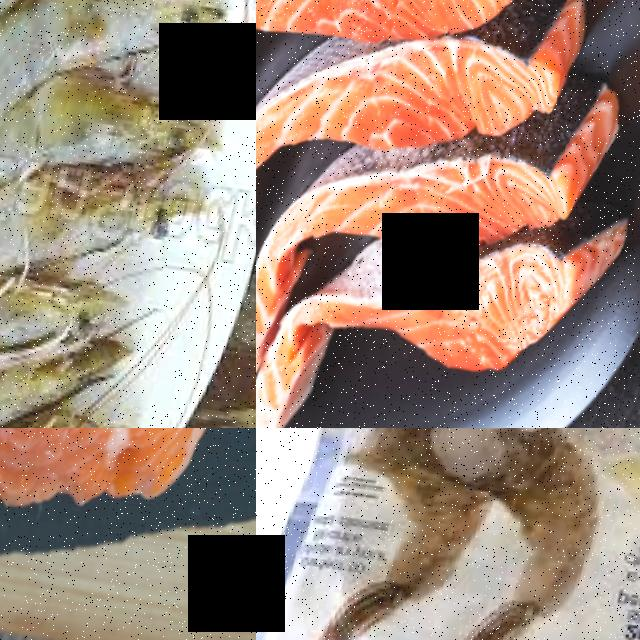salmon: (432, 216, 624, 394), (312, 127, 542, 270), (264, 29, 478, 164), (0, 428, 242, 535), (256, 0, 477, 53)
shrimp: (455, 428, 620, 640), (308, 464, 493, 640), (0, 160, 202, 301), (18, 64, 201, 188), (18, 0, 221, 90), (0, 251, 99, 364), (0, 16, 43, 142)
